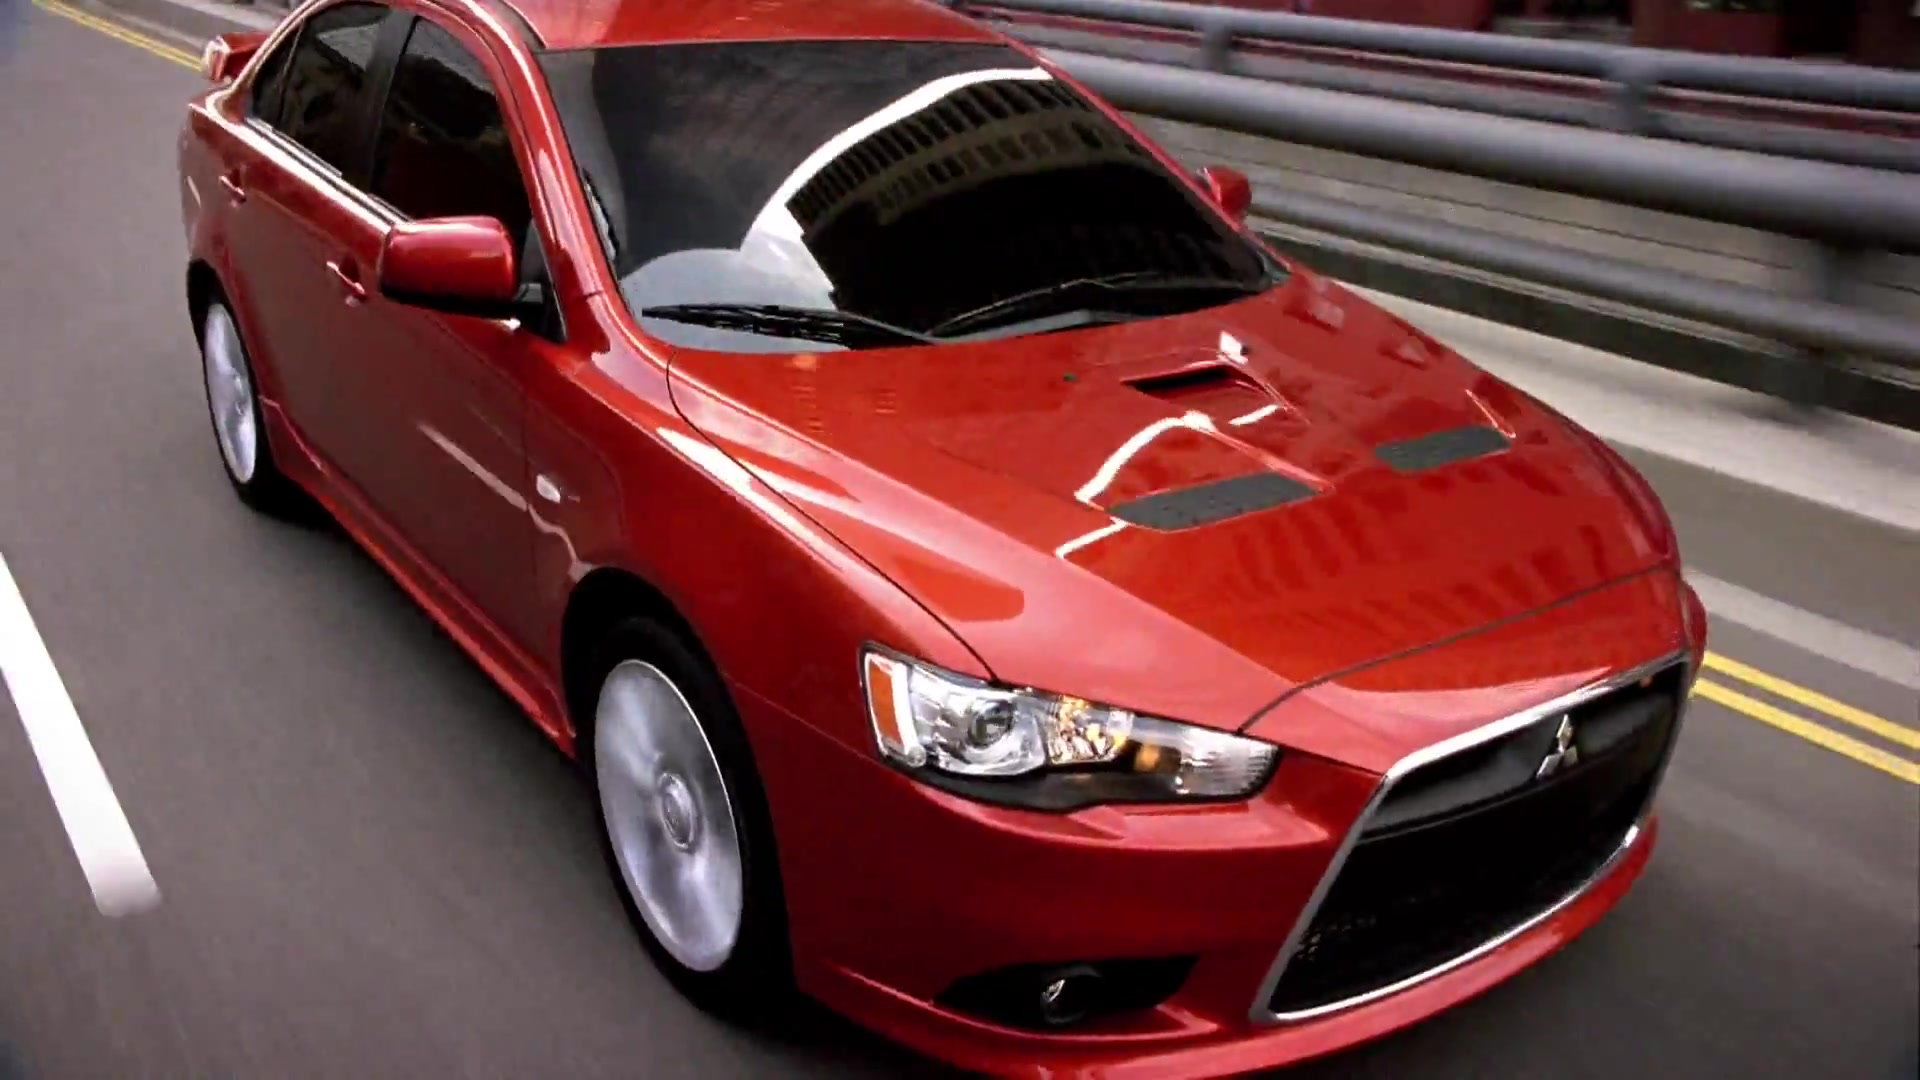car: (171, 3, 1714, 1080)
